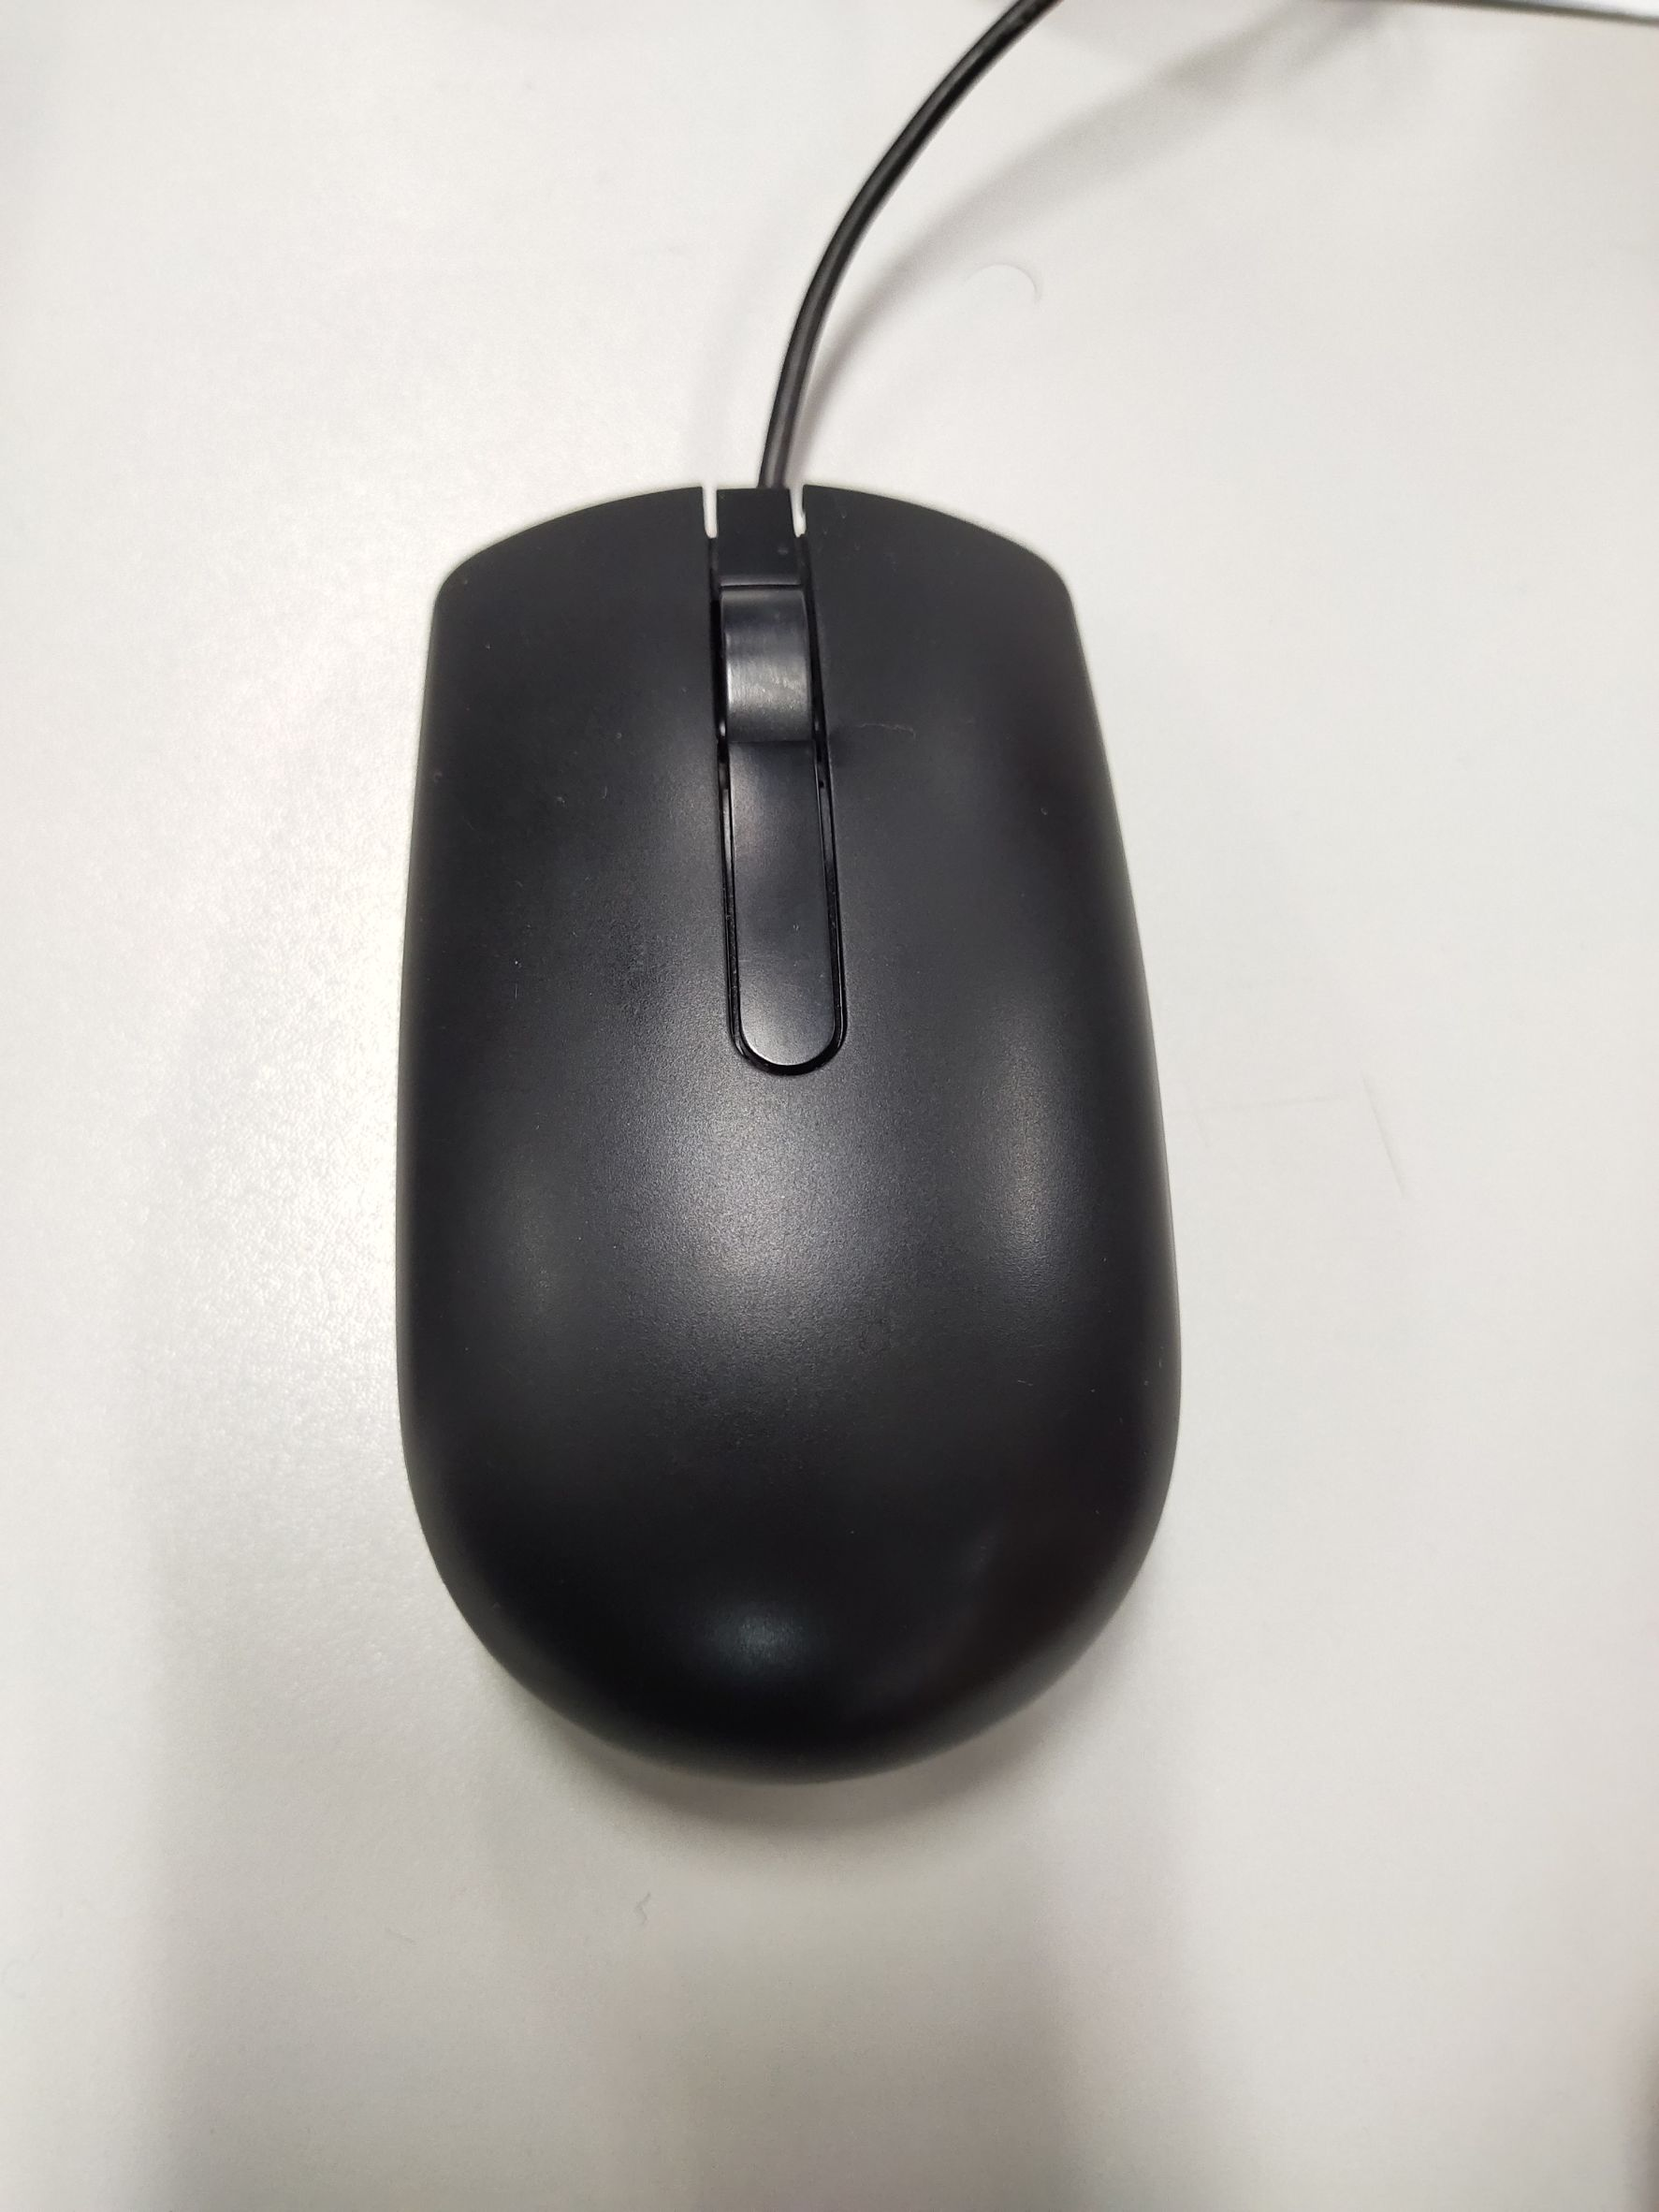mouse: (336, 451, 1211, 1844)
